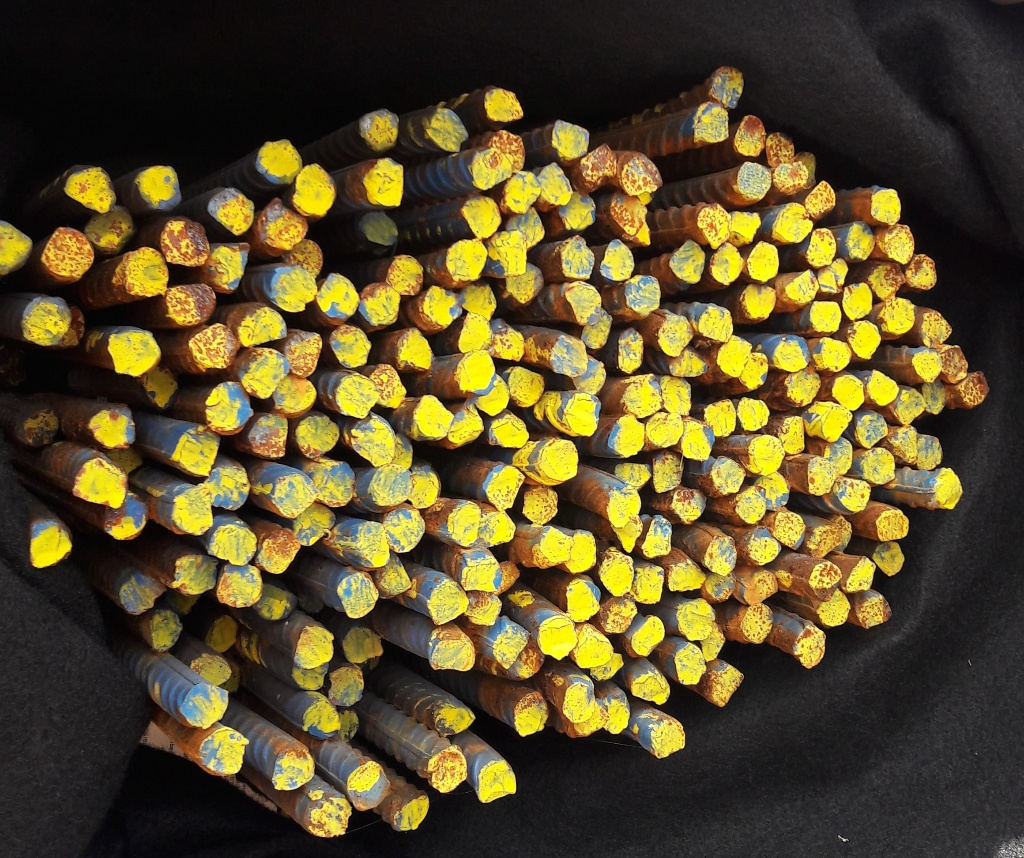dipstick: (17, 293, 82, 347), (105, 324, 161, 384), (59, 159, 117, 216), (69, 457, 128, 508), (44, 229, 100, 282), (268, 470, 320, 524), (288, 164, 339, 218), (237, 349, 292, 398), (158, 223, 215, 270), (343, 761, 393, 814), (253, 135, 302, 189), (202, 382, 257, 430), (22, 522, 73, 572), (121, 246, 173, 295), (168, 425, 220, 474), (531, 435, 581, 485), (360, 161, 411, 210), (233, 304, 293, 345), (258, 203, 307, 253), (207, 183, 255, 234), (164, 285, 219, 329), (271, 268, 321, 316), (199, 730, 250, 777), (427, 625, 479, 670), (300, 795, 354, 838), (349, 418, 398, 465), (139, 162, 184, 213), (349, 524, 391, 577), (379, 509, 426, 555), (173, 482, 213, 536), (189, 325, 239, 368), (88, 406, 140, 447), (531, 615, 577, 661), (447, 238, 492, 285), (218, 563, 263, 609), (770, 201, 817, 245), (555, 281, 604, 323), (479, 462, 521, 511), (804, 401, 853, 443), (618, 374, 663, 419), (417, 285, 461, 331), (425, 577, 471, 621), (599, 546, 638, 597), (180, 686, 231, 725), (173, 549, 218, 593), (248, 413, 292, 458), (379, 252, 425, 295), (549, 334, 592, 380), (261, 527, 302, 575), (113, 575, 161, 616), (357, 110, 402, 153), (327, 325, 372, 368), (296, 417, 341, 460), (145, 613, 188, 658), (559, 392, 602, 437), (336, 371, 379, 416), (749, 433, 791, 479), (338, 570, 379, 617), (599, 236, 642, 280), (673, 599, 718, 641), (16, 405, 61, 447), (509, 692, 550, 738), (564, 580, 604, 627), (318, 273, 357, 321), (738, 601, 777, 649), (629, 668, 677, 707), (206, 467, 249, 510), (625, 276, 667, 320), (454, 352, 498, 394), (369, 465, 413, 507), (807, 338, 851, 380), (747, 239, 788, 284), (289, 626, 334, 667), (426, 696, 474, 734), (607, 194, 649, 237), (327, 661, 368, 705), (480, 87, 530, 123), (693, 303, 738, 343), (709, 63, 749, 108), (707, 662, 747, 707), (369, 364, 409, 409), (212, 526, 258, 565), (610, 412, 649, 458), (283, 330, 322, 376), (468, 149, 515, 187), (417, 390, 453, 439), (689, 106, 732, 147), (272, 747, 315, 788), (477, 757, 517, 801), (1, 219, 34, 272), (929, 469, 967, 515), (537, 161, 573, 209), (629, 615, 669, 658), (398, 329, 437, 373), (551, 119, 592, 160), (487, 412, 529, 452), (646, 721, 689, 760), (304, 701, 343, 744), (607, 485, 645, 529), (448, 403, 486, 447), (424, 111, 464, 152), (701, 397, 740, 439), (444, 503, 483, 545), (735, 159, 777, 198), (865, 187, 907, 226), (878, 225, 917, 267), (771, 329, 809, 372), (532, 528, 573, 567), (647, 411, 689, 449), (843, 551, 880, 594), (432, 746, 469, 789), (793, 625, 829, 669), (580, 145, 616, 189), (623, 156, 662, 196), (779, 269, 818, 309), (842, 223, 879, 265), (670, 489, 712, 526), (865, 261, 907, 298), (777, 269, 819, 306), (650, 451, 686, 494), (710, 243, 745, 287), (703, 531, 738, 575), (506, 169, 541, 213), (378, 558, 413, 602), (716, 336, 755, 375), (656, 316, 696, 354), (509, 367, 547, 407), (459, 561, 504, 594), (665, 556, 703, 595), (598, 598, 637, 636), (340, 628, 386, 660), (801, 563, 843, 598), (836, 475, 873, 514), (710, 455, 747, 494), (560, 682, 597, 721), (559, 242, 595, 282), (670, 241, 704, 283), (567, 525, 596, 574), (849, 321, 881, 365), (787, 368, 825, 405), (744, 529, 783, 565), (853, 591, 892, 627), (954, 370, 990, 409), (362, 212, 401, 248), (697, 205, 732, 245), (817, 587, 852, 627), (658, 376, 693, 416), (771, 512, 805, 553), (454, 318, 496, 351), (920, 307, 953, 349), (736, 396, 773, 433), (873, 507, 911, 543), (524, 487, 560, 525), (806, 521, 841, 560), (492, 627, 526, 667), (876, 300, 917, 333), (734, 116, 765, 159), (743, 282, 779, 319), (206, 614, 242, 651), (393, 796, 430, 832), (465, 198, 500, 236), (892, 424, 922, 468), (573, 637, 613, 670), (641, 516, 672, 558), (859, 448, 895, 484), (864, 371, 899, 408), (810, 300, 847, 335), (736, 492, 772, 527), (804, 181, 838, 218), (407, 470, 441, 507), (635, 566, 667, 605), (911, 348, 943, 386), (905, 255, 937, 293), (938, 345, 970, 383), (766, 129, 797, 168), (603, 697, 632, 737), (807, 456, 837, 494), (857, 410, 888, 445), (919, 427, 944, 470), (614, 460, 651, 489), (667, 352, 708, 378), (895, 389, 926, 423), (699, 626, 728, 658), (577, 711, 608, 736)
